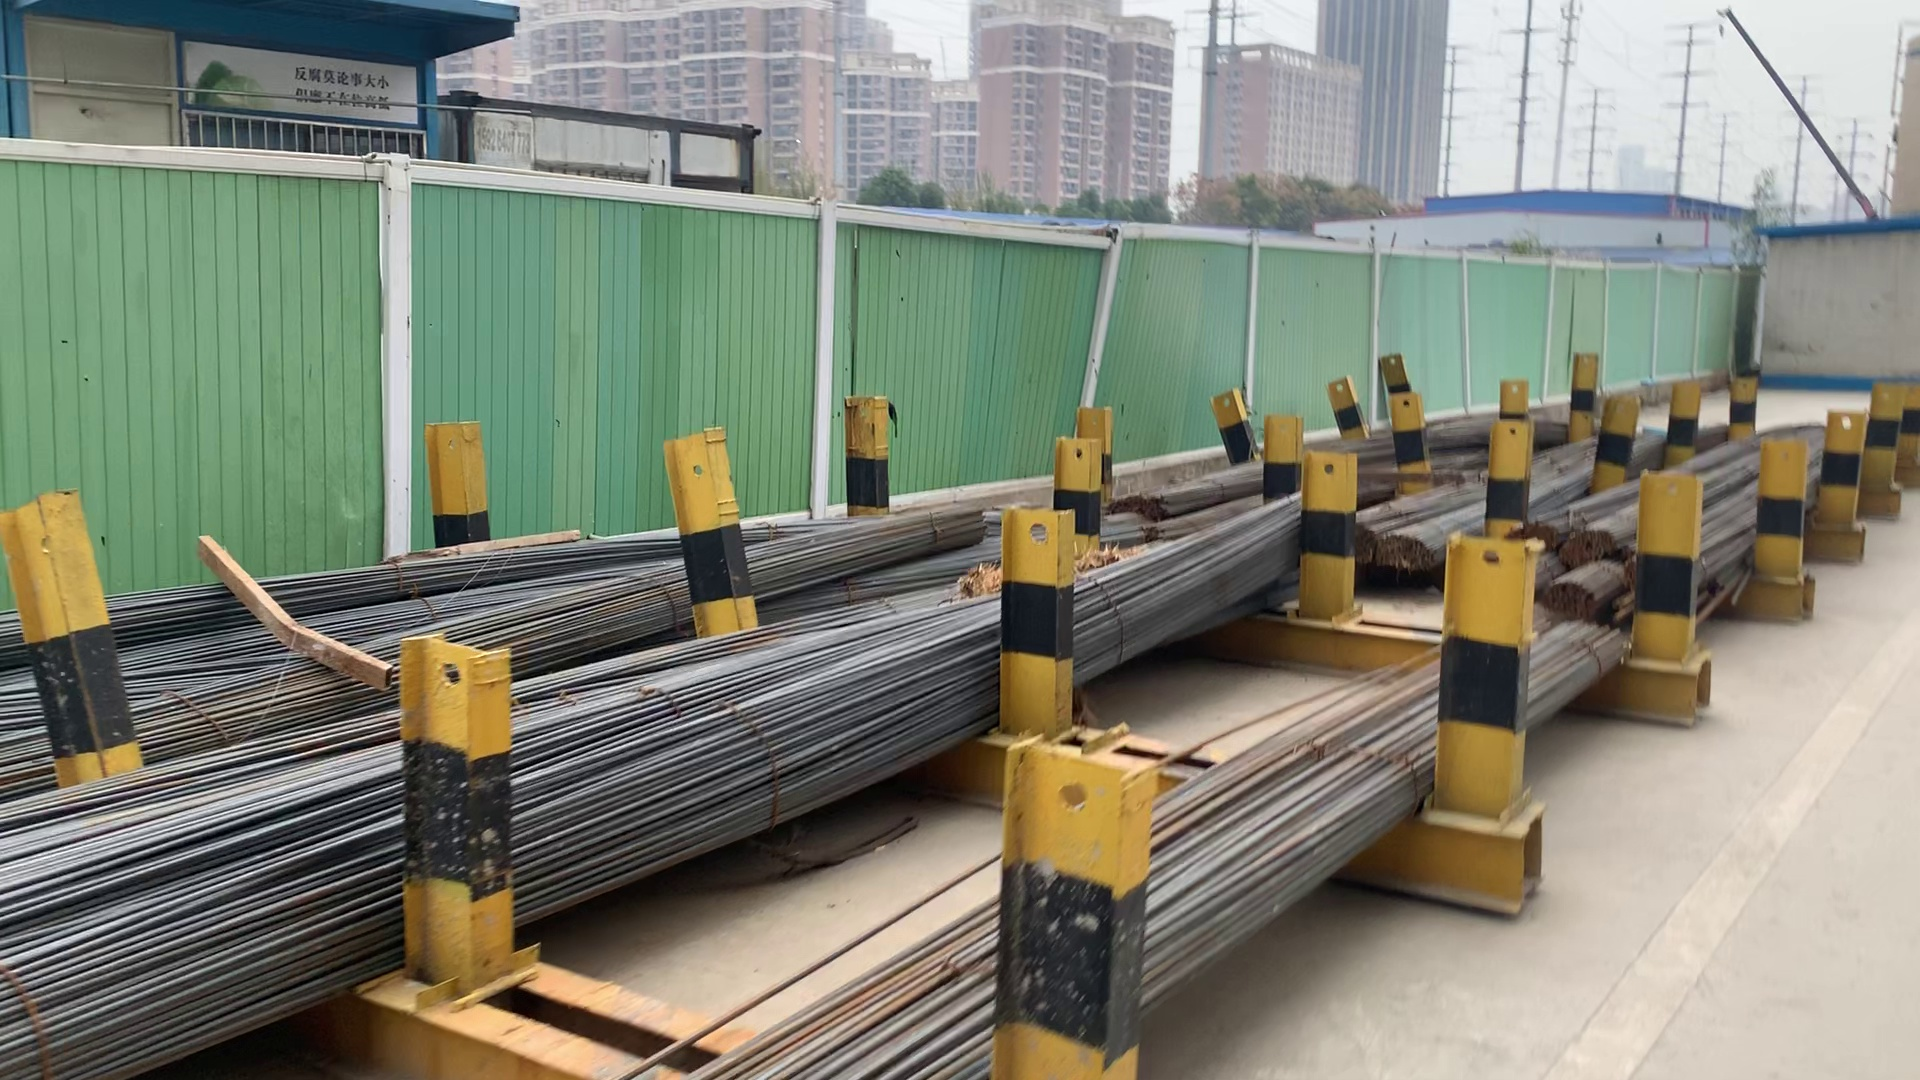rebar: (1381, 529, 1437, 578), (1538, 579, 1600, 616), (1560, 526, 1618, 560), (1357, 514, 1373, 566)
